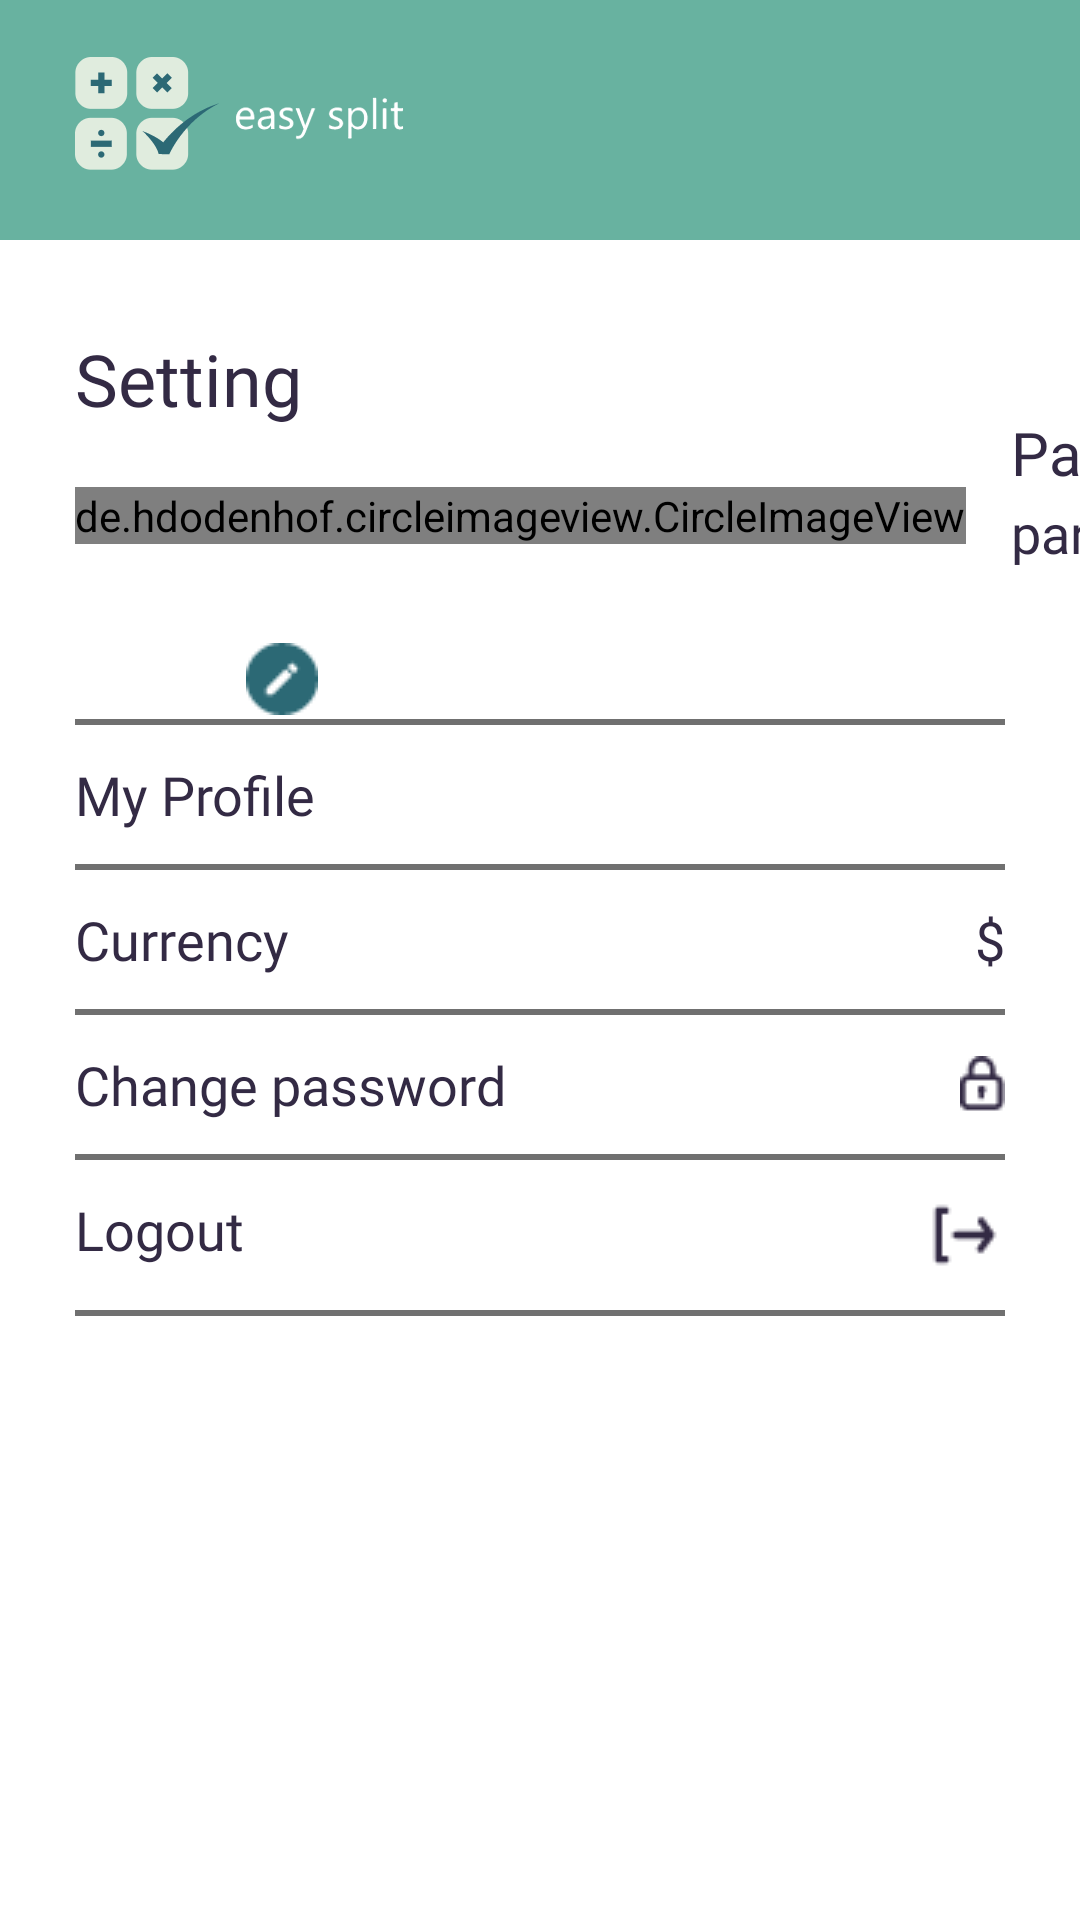

Named icons in this screenshot (1080x1920) and their bounding boxes, (x1, y1, x2, y2):
ig edit profile: (246, 643, 318, 715)
